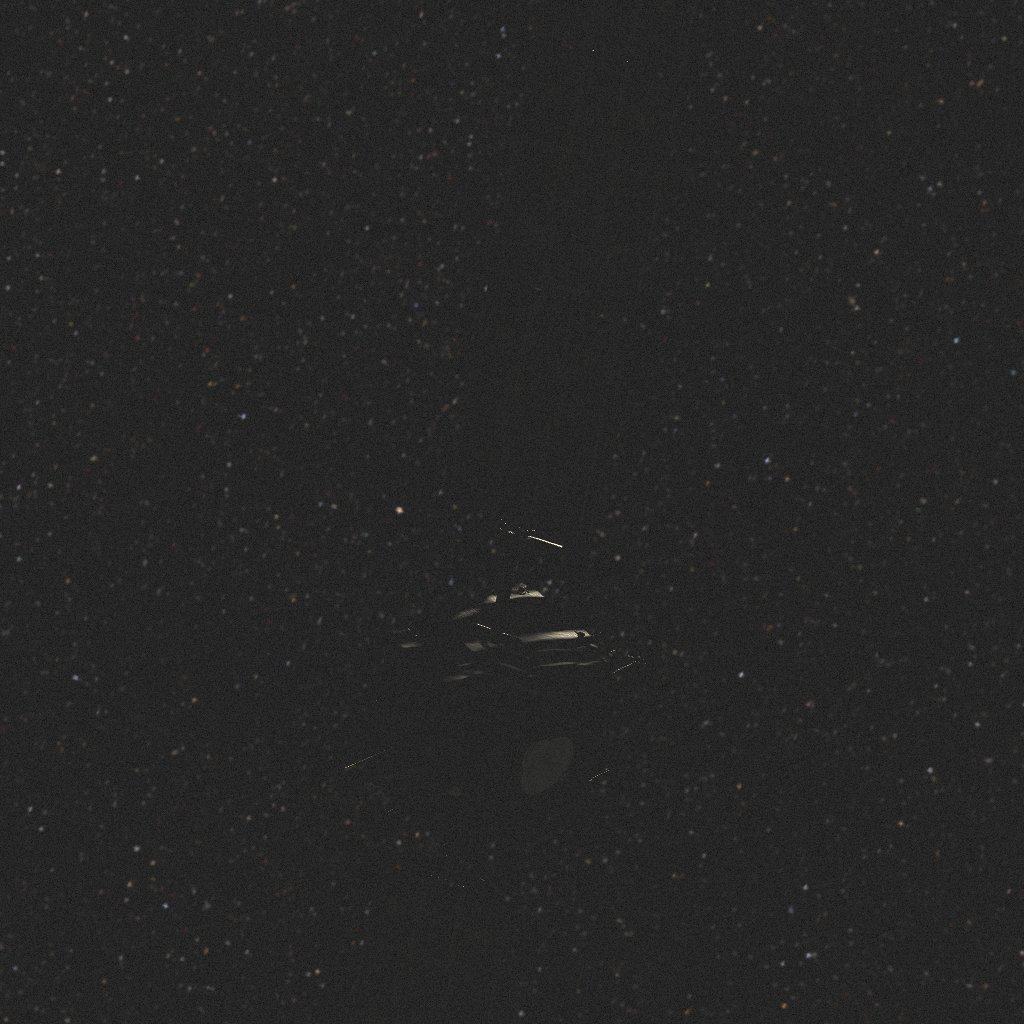smart_1: (345, 0, 702, 1024)
